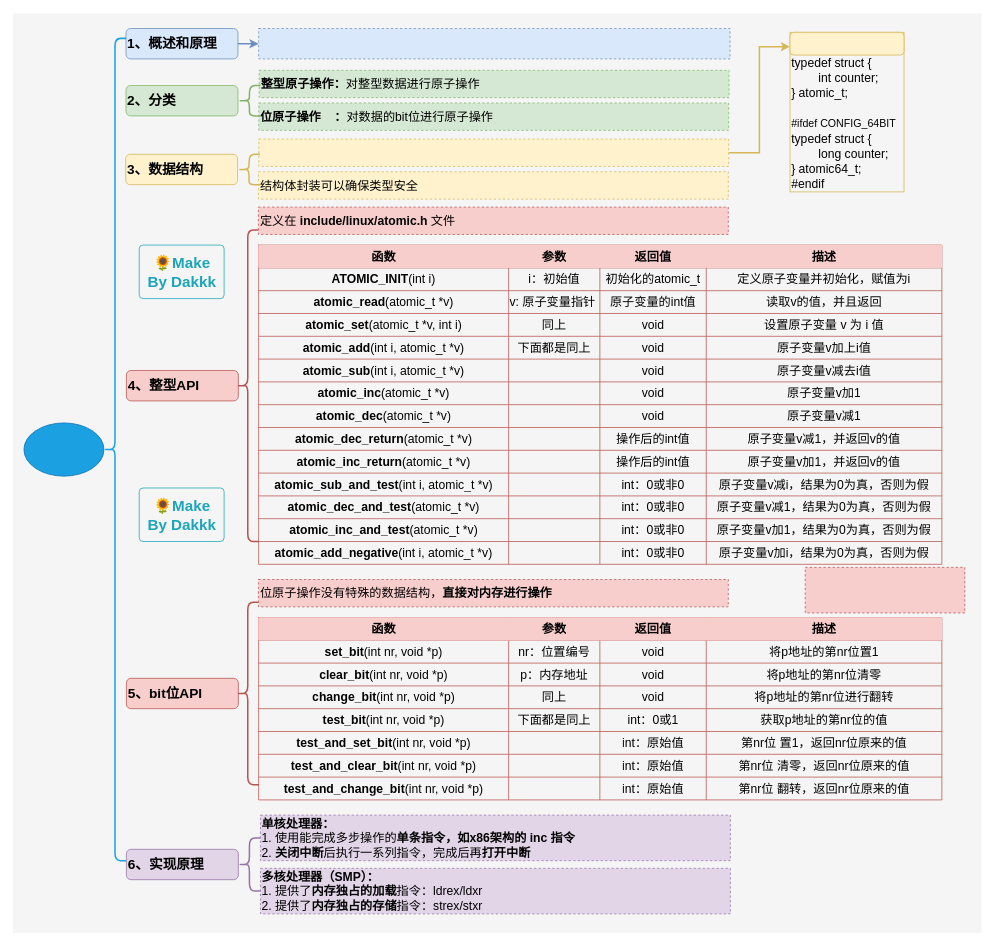
The diagram is 995 pixels wide and 945 high, and some of its shapes have lost their labels. The centre of each missing label's shape, as x and y in pixels:
atomic_t / atomic64_t ： 用于32 / 64位系统的整型数据原子操作: the point at 493,152
一个不可分割的动作，要么完全执行完成，要么完全不执行，绝不会被打断到一半: the point at 494,43
原子锁: the point at 63,449
数据结构: the point at 846,43
通过原子API 可完成对整数或位的原子操作 避免之前读取和设置冲突: the point at 884,590
